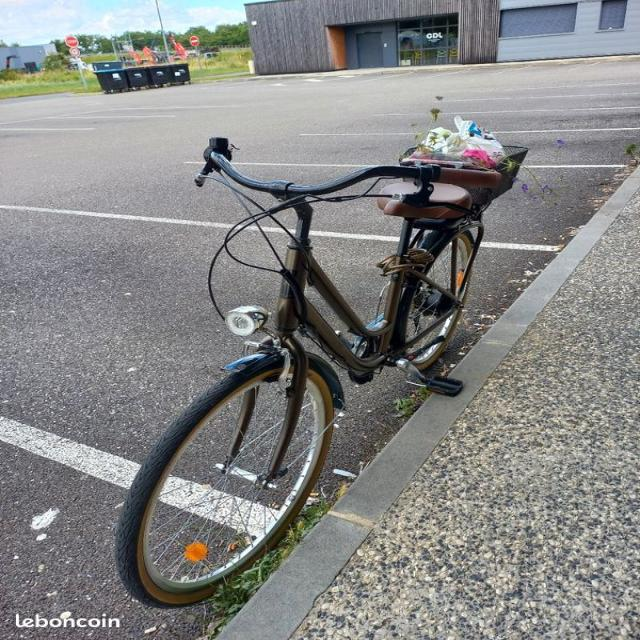Bike: (114, 133, 531, 611)
